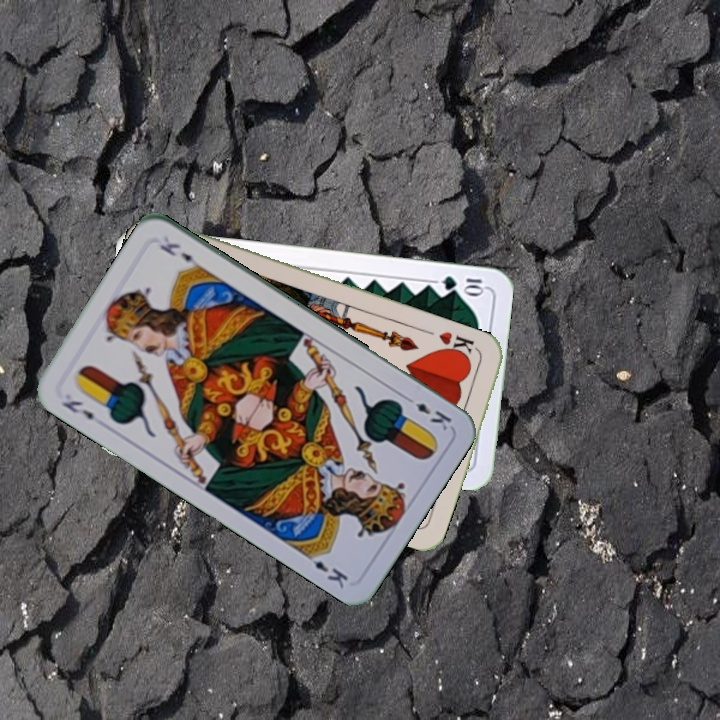EK: (400, 391, 455, 434), (58, 396, 97, 423)
G10: (438, 272, 488, 297)
HK: (434, 327, 482, 362)
